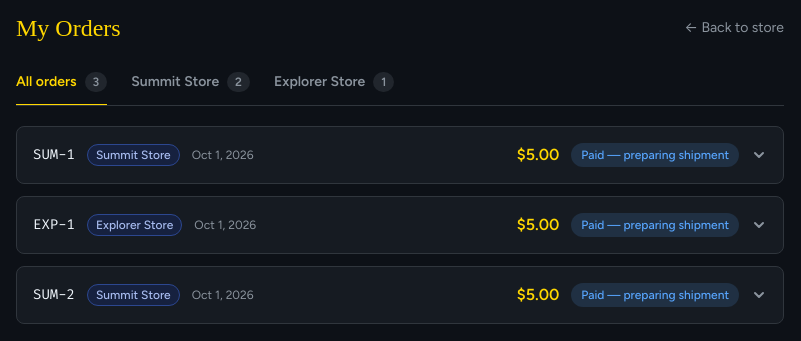
Test case: MyOrders page › shows a tab per storefront and filters orders by it
Check: the tab "Summit Store 2" is shown, box [131,60,250,106]
Click the tab "Explorer Store 1": (334, 83) [274,60,394,106]
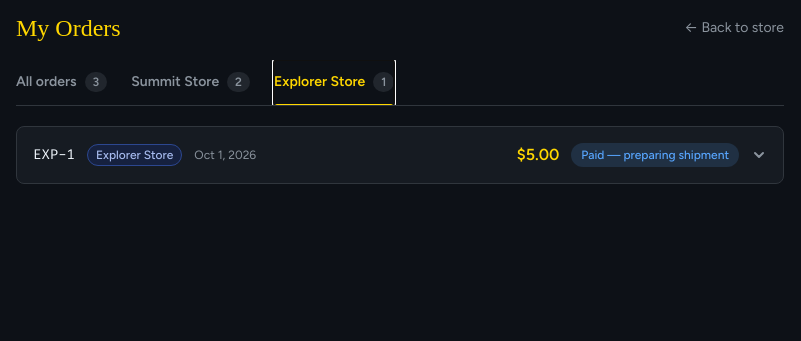
Check: the text "EXP-1" is shown, box [33,145,75,165]
Check: the button "SUM-1" is gone
